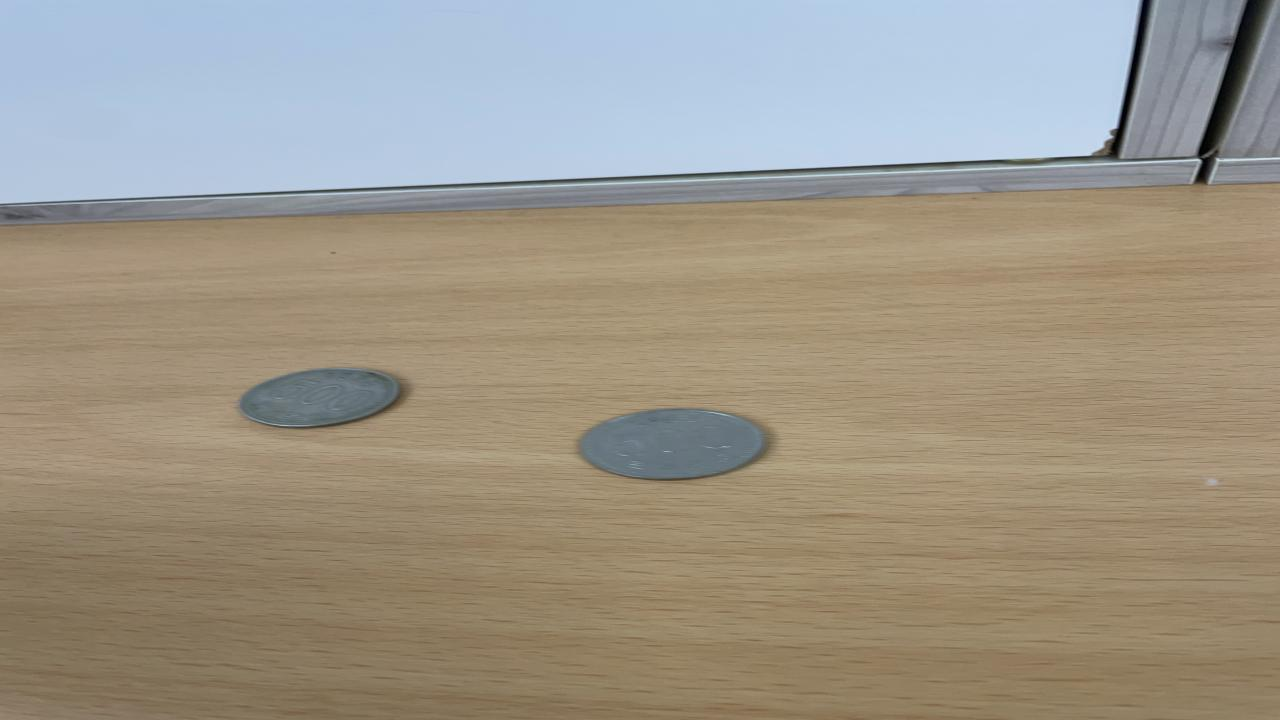coin: (578, 406, 772, 483), (230, 366, 404, 431)
